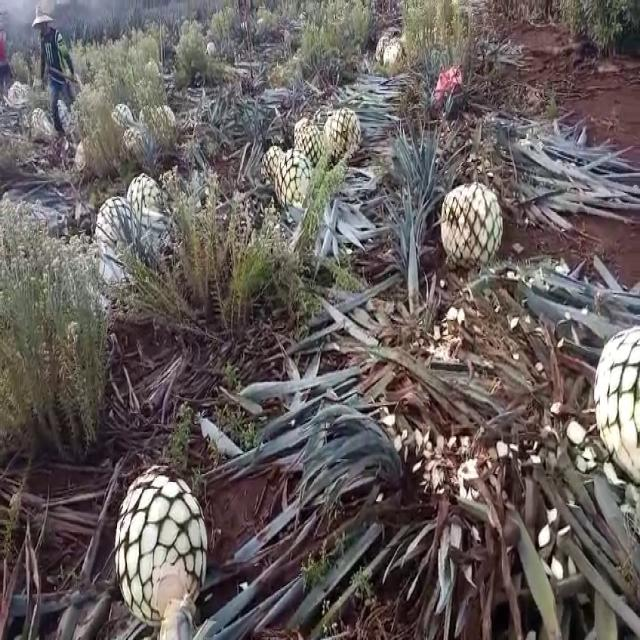agave: (108, 466, 217, 624), (583, 313, 640, 481), (437, 172, 508, 268), (92, 194, 139, 250), (275, 148, 312, 206), (323, 104, 360, 156), (126, 174, 159, 224), (260, 144, 282, 179), (304, 126, 322, 164), (294, 115, 314, 147), (387, 40, 403, 66), (376, 35, 392, 58)
